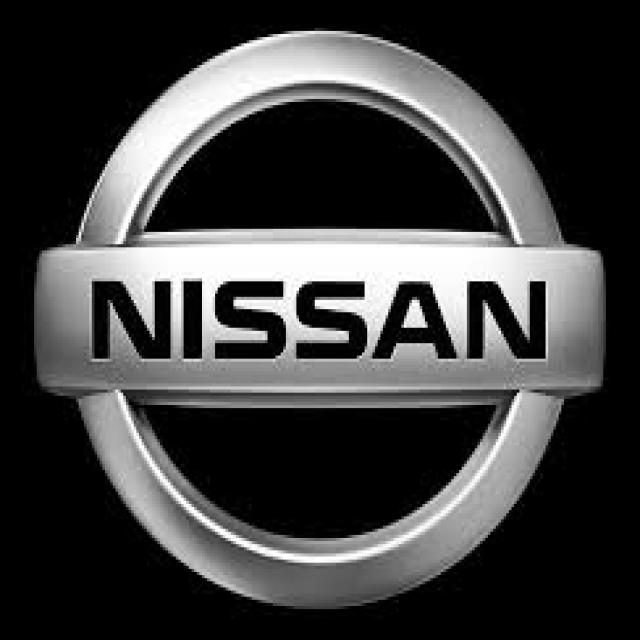nissan: (8, 9, 633, 617)
